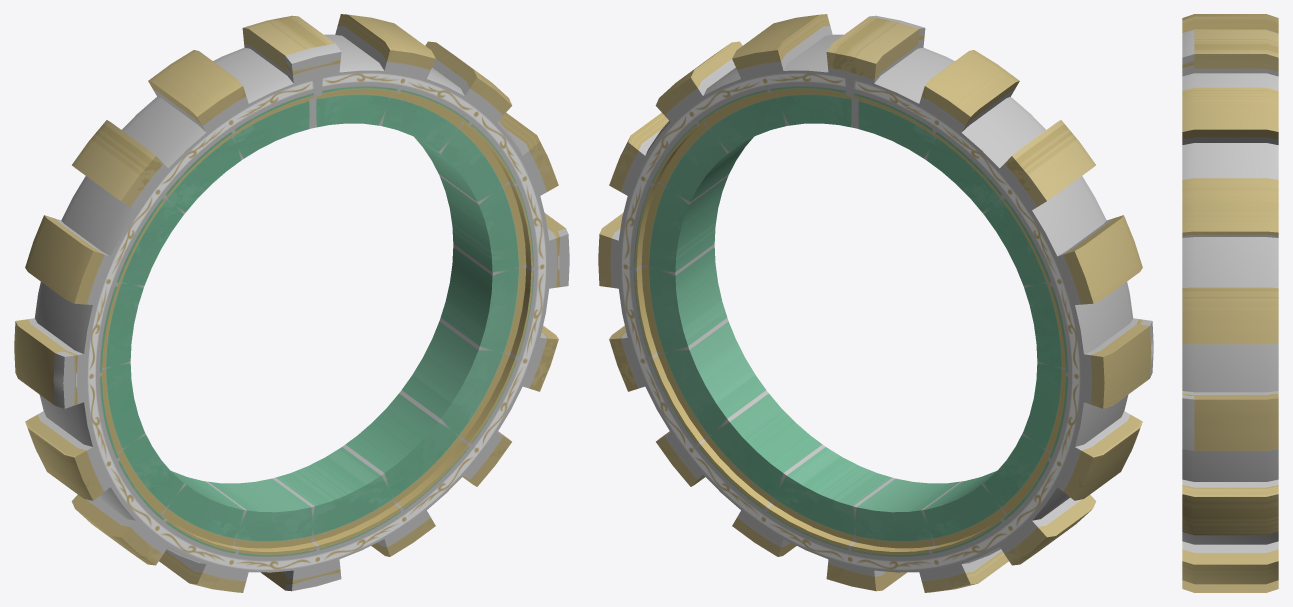
Rendered from GreekGear.fbx.
The picture shows the model from 3 angles, left to right: view 1: azimuth 30°, elevation 25°; view 2: azimuth 150°, elevation 25°; view 3: azimuth 270°, elevation 25°; orthographic projection. The views are drawn at different scales.
Visible parts, largest first — view 1: Circle; view 2: Circle; view 3: Circle.
Part boxes in pixels (<box>): Circle: <box>14,14,569,592</box>; Circle: <box>598,14,1153,592</box>; Circle: <box>1182,14,1278,592</box>.
Size of the model in its own units: 6593 by 6593 by 1095.
Materials: 1 (1 with a texture image).
